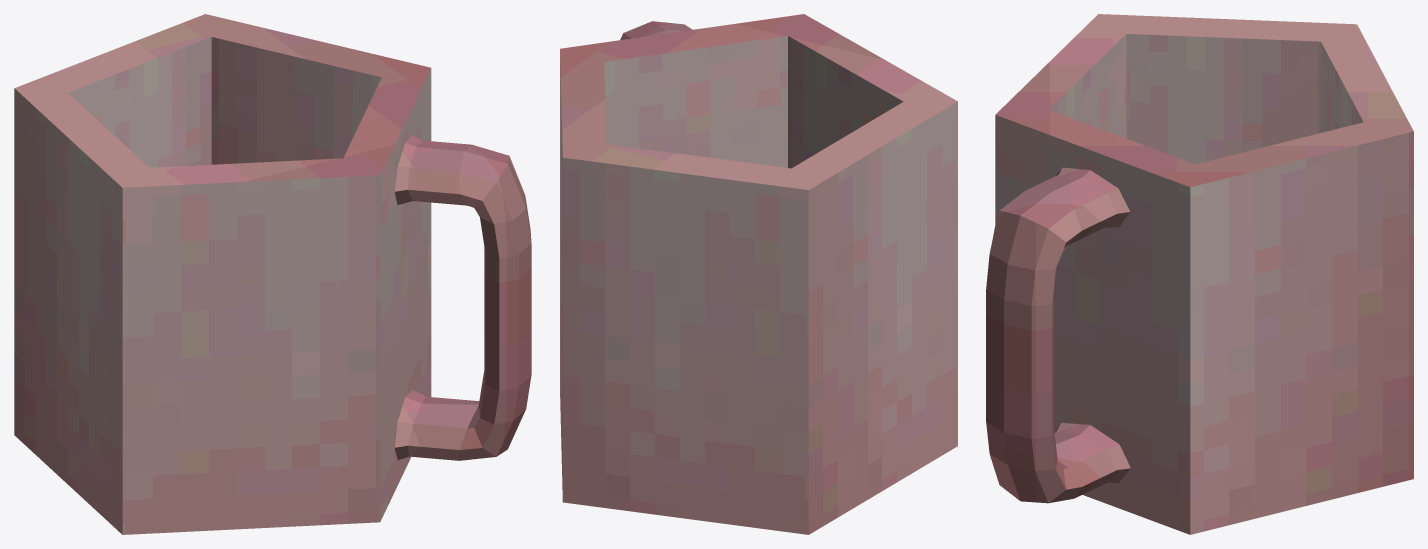
File: mug_alt3.obj
The picture shows the model from 3 angles, left to right: view 1: azimuth 30°, elevation 25°; view 2: azimuth 150°, elevation 25°; view 3: azimuth 270°, elevation 25°; orthographic projection.
Parts seen in each view (by area): view 1: mug_alt3; view 2: mug_alt3; view 3: mug_alt3.
Boxes of the visible parts, x1,y1,x2,y2 form: mug_alt3: (14,14,531,534); mug_alt3: (560,14,957,534); mug_alt3: (986,14,1413,534).
Size of the model in its own units: 0.139 by 0.123 by 0.1372.
